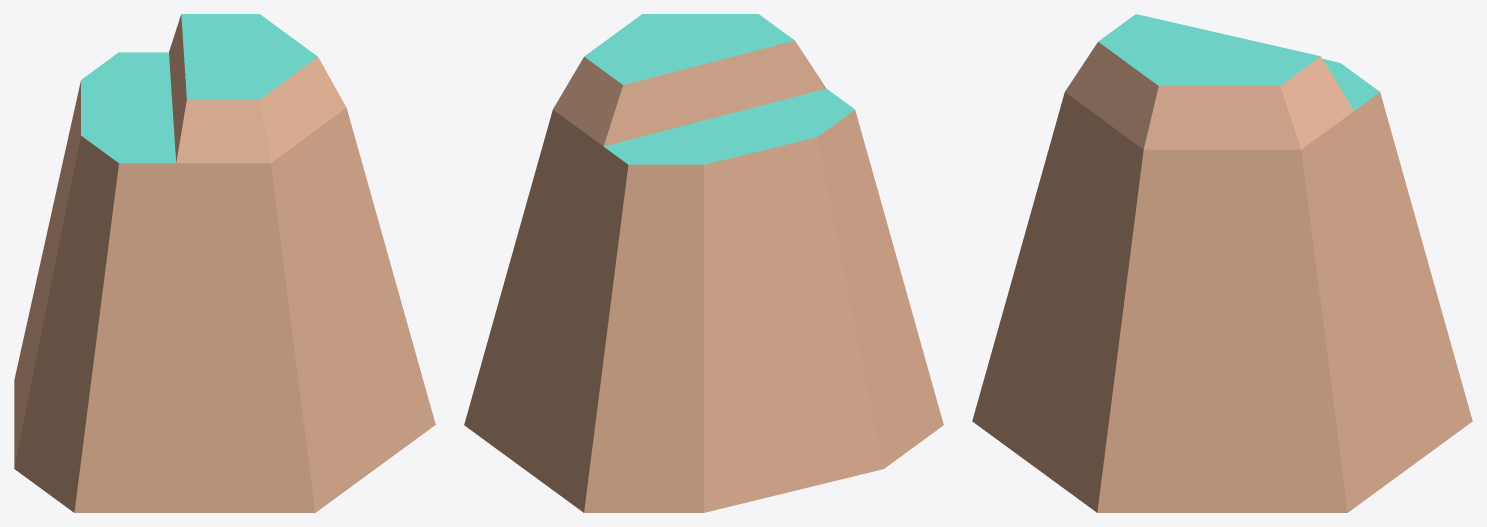
File: rock_tallE.glb
3 renders of one model, left to right at view 1: azimuth 30°, elevation 25°; view 2: azimuth 150°, elevation 25°; view 3: azimuth 270°, elevation 25°, orthographic. The views are drawn at different scales.
Visible parts, largest first — view 1: rock_tallE; view 2: rock_tallE; view 3: rock_tallE.
Boxes of the visible parts, x1,y1,x2,y2 form: rock_tallE: (14,14,435,512); rock_tallE: (464,14,943,512); rock_tallE: (972,14,1472,512).
Bounding box in the file's own units: 0.4562 × 0.4438 × 0.5268.
Materials: 1 (1 with a texture image).
